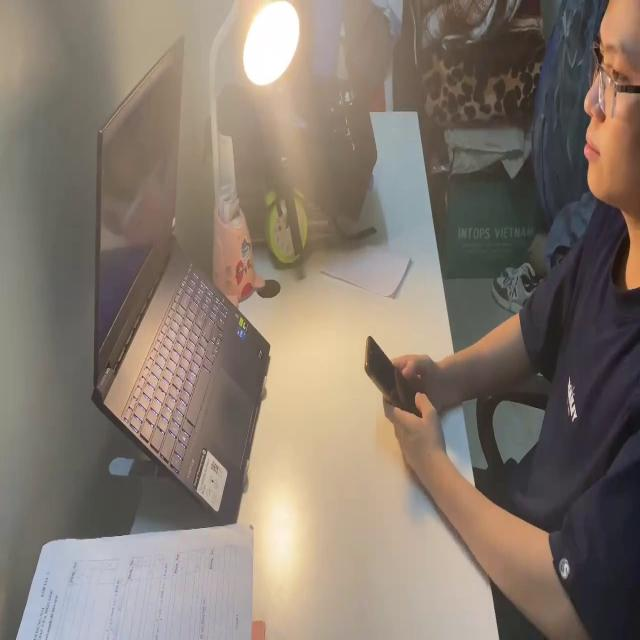book: (14, 522, 256, 640)
laptop: (86, 28, 273, 531)
phone: (361, 332, 434, 427)
student: (370, 0, 640, 640)
